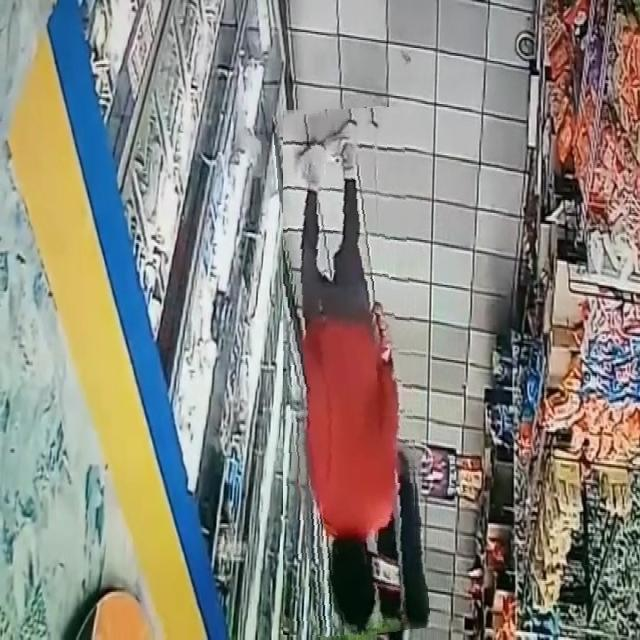normal: (283, 107, 419, 635)
